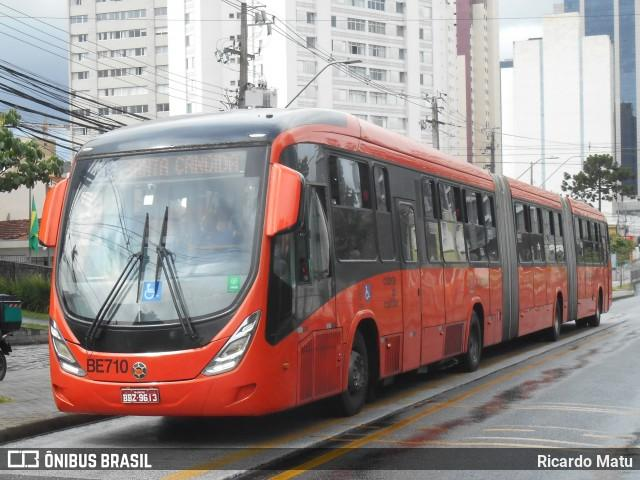SANTA CANDIDA: (116, 148, 248, 181)
